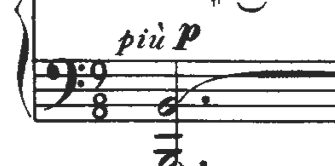bass_clef: (38, 49, 90, 116)
